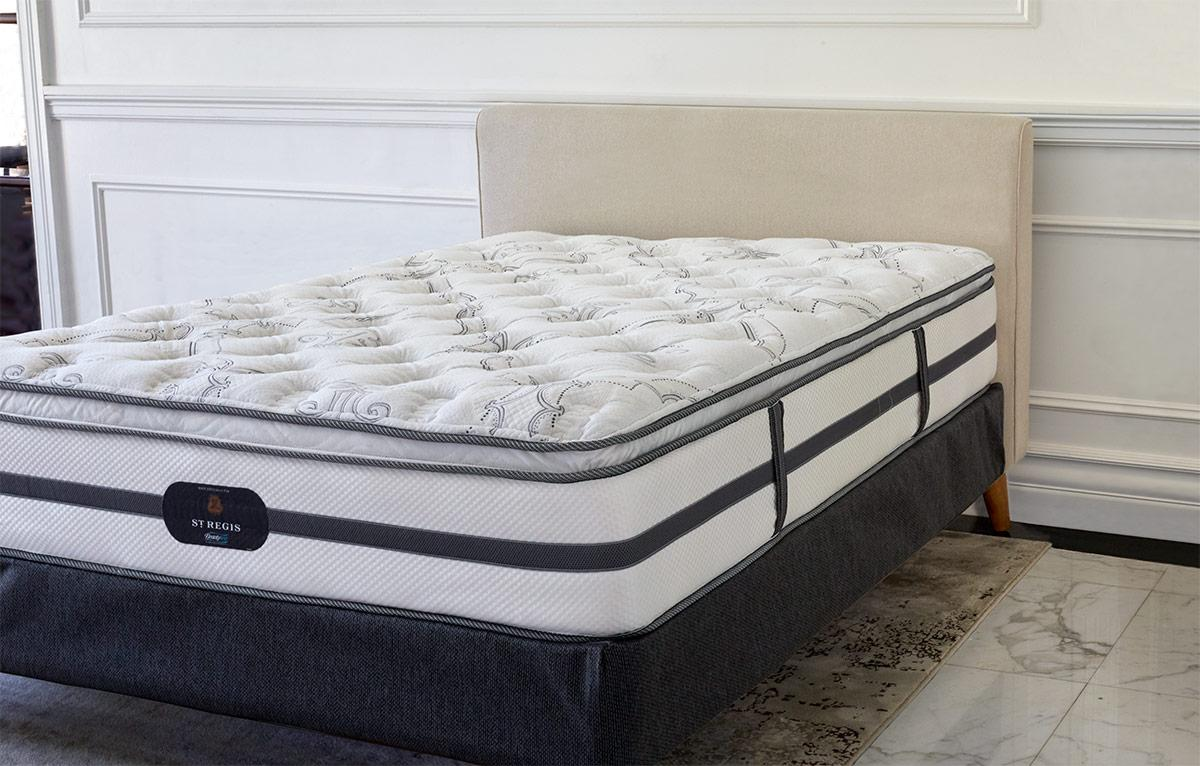bed: (128, 138, 1082, 550)
